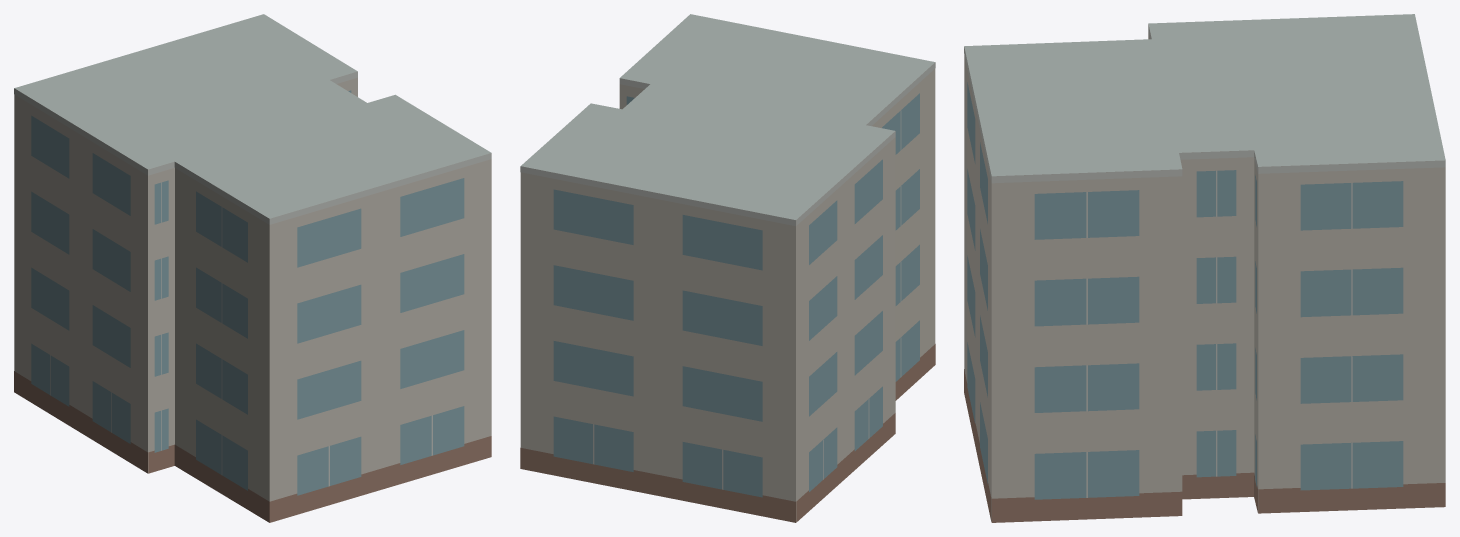
The model's file is survey-upis-32615205.glb.
3 views of the same model, side by side, from view 1: azimuth 30°, elevation 25°; view 2: azimuth 150°, elevation 25°; view 3: azimuth 270°, elevation 25° (orthographic). The views are drawn at different scales.
Visible parts, largest first — view 1: survey-upis-32615205.tmp; view 2: survey-upis-32615205.tmp; view 3: survey-upis-32615205.tmp.
Part boxes in pixels (bbox=[...]): survey-upis-32615205.tmp: bbox=[14, 14, 491, 522]; survey-upis-32615205.tmp: bbox=[520, 14, 935, 522]; survey-upis-32615205.tmp: bbox=[964, 14, 1445, 522].
Bounding box in the file's own units: 12.16 × 12.1 × 15.25.
